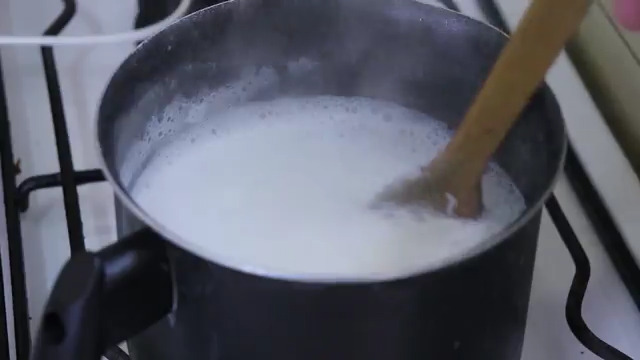Steaming: (96, 14, 553, 301)
